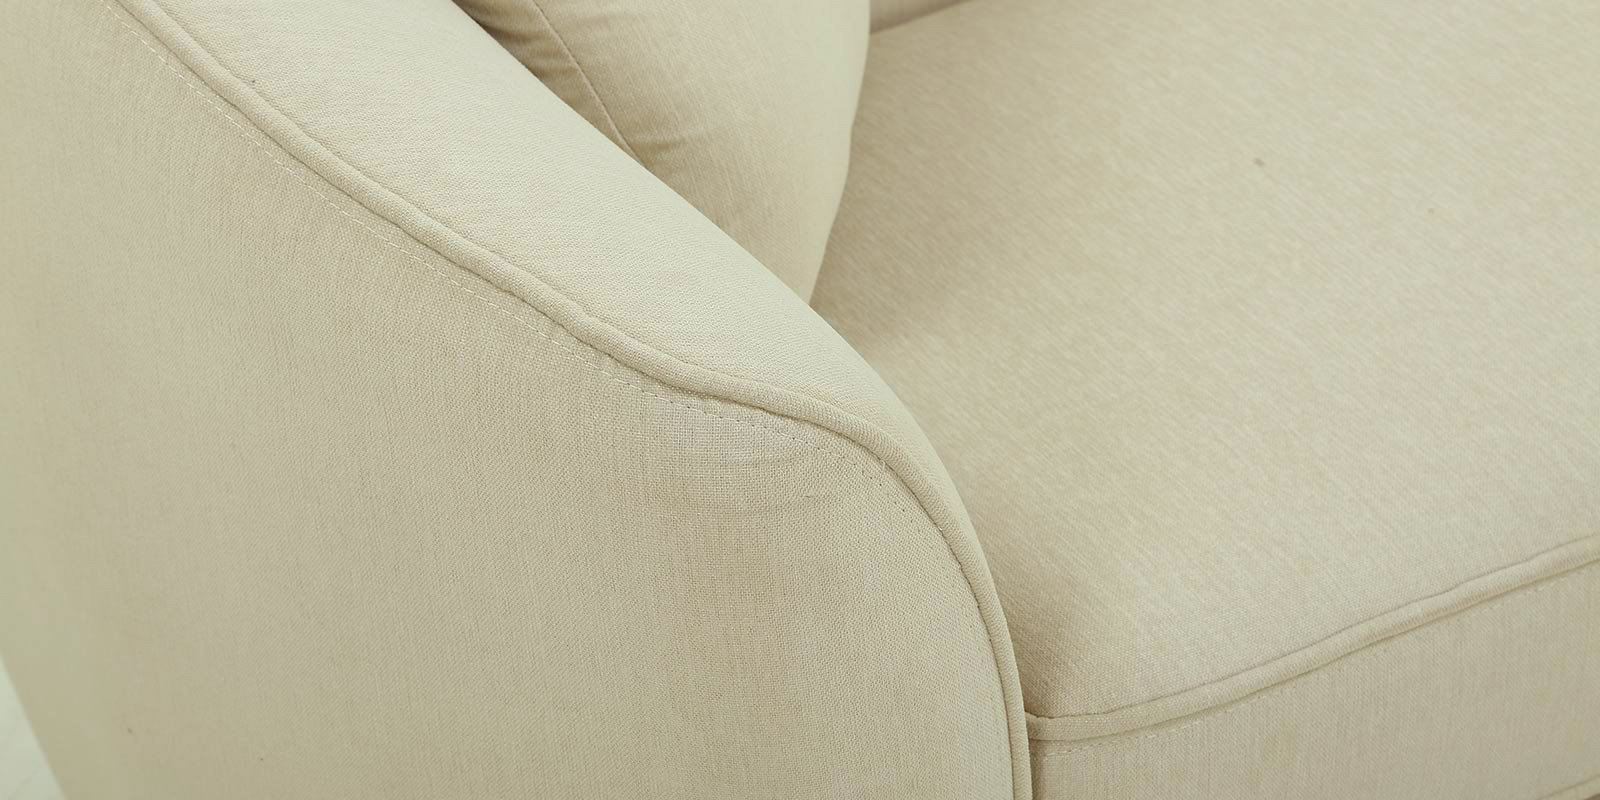Mamore Three Seater Sofa in Beige Color by CasaCraft: (2, 1, 1600, 797)
